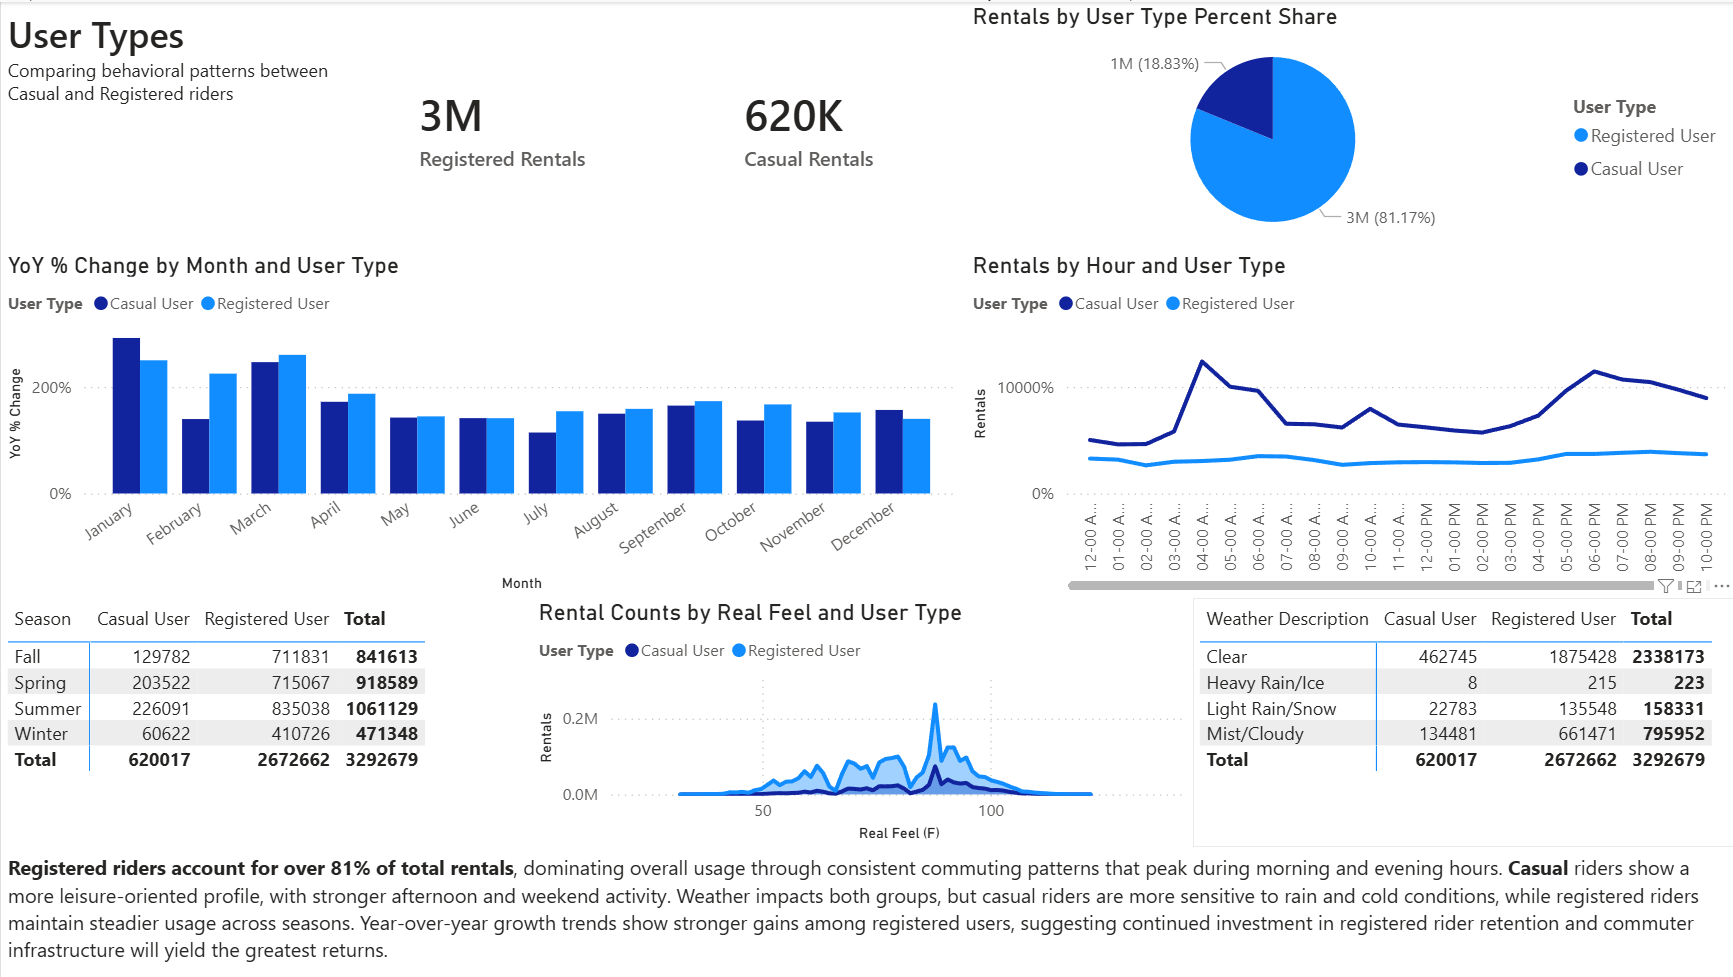

What the dashboard file says about the page in this screenshot:
{"tool":"powerbi","page":{"name":"User Types","canvas":[1280,720],"ordinal":4},"visuals":[{"type":"textbox","box":[0,0,280,86.4],"z":0},{"type":"cardVisual","fields":{"Data":["public view_fact_bike_rentals.Registered Rentals"]},"box":[280,0,240,184],"z":2000},{"type":"cardVisual","fields":{"Data":["public view_fact_bike_rentals.Casual Rentals"]},"box":[520,0,192,184],"z":3000},{"type":"lineChart","title":"Rentals by Hour and User Type","fields":{"Category":["public dim_hour.hour_label"],"Series":["dim_user_type.user_type_label"],"Y":["public view_fact_bike_rentals.YoY % Change"]},"box":[712,184,568,256],"z":4000},{"type":"textbox","box":[0,624,1280,96],"z":6000},{"type":"pieChart","title":"Rentals by User Type Percent Share","fields":{"Category":["dim_user_type.user_type_label"],"Y":["public view_fact_bike_rentals.Total Rentals"]},"box":[712,0,568,184],"z":7000},{"type":"areaChart","title":"Rental Counts by Real Feel and User Type","fields":{"Category":["public view_fact_bike_rentals.real_feel_f"],"Y":["public view_fact_bike_rentals.Total Rentals"],"Series":["dim_user_type.user_type_label"]},"box":[392,440,488,184],"z":8000},{"type":"pivotTable","fields":{"Rows":["public view_fact_bike_rentals.weather_desc"],"Columns":["dim_user_type.user_type_label"],"Values":["public view_fact_bike_rentals.Total Rentals"]},"box":[880,440,400,184],"z":9000},{"type":"pivotTable","fields":{"Rows":["public dim_season.season_name"],"Columns":["dim_user_type.user_type_label"],"Values":["public view_fact_bike_rentals.Total Rentals"]},"box":[0,440,392,176],"z":9001},{"type":"clusteredColumnChart","fields":{"Category":["public view_fact_bike_rentals.month_name"],"Series":["dim_user_type.user_type_label"],"Y":["public view_fact_bike_rentals.YoY % Change"]},"box":[0,184,712,256],"z":9002}]}

Visuals, with their boxes in screenshot pixels (x1, y1, x2, y2), scaled from the page's 1280x720 canvas onto the 1733x977 screenshot:
textbox: bbox(0, 0, 379, 117)
cardVisual - public view_fact_bike_rentals.Registered Rentals: bbox(379, 0, 704, 250)
cardVisual - public view_fact_bike_rentals.Casual Rentals: bbox(704, 0, 964, 250)
"Rentals by Hour and User Type" lineChart: bbox(964, 250, 1732, 597)
textbox: bbox(0, 847, 1732, 976)
"Rentals by User Type Percent Share" pieChart: bbox(964, 0, 1732, 250)
"Rental Counts by Real Feel and User Type" areaChart: bbox(531, 597, 1191, 847)
pivotTable - public view_fact_bike_rentals.weather_desc x dim_user_type.user_type_label: bbox(1191, 597, 1732, 847)
pivotTable - public dim_season.season_name x dim_user_type.user_type_label: bbox(0, 597, 531, 836)
clusteredColumnChart - public view_fact_bike_rentals.month_name x dim_user_type.user_type_label: bbox(0, 250, 964, 597)
